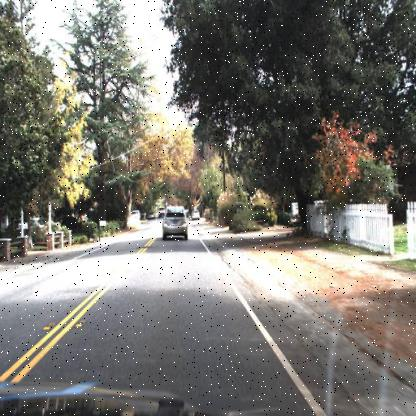car: (160, 200, 190, 240), (188, 206, 203, 223), (131, 206, 142, 225)
